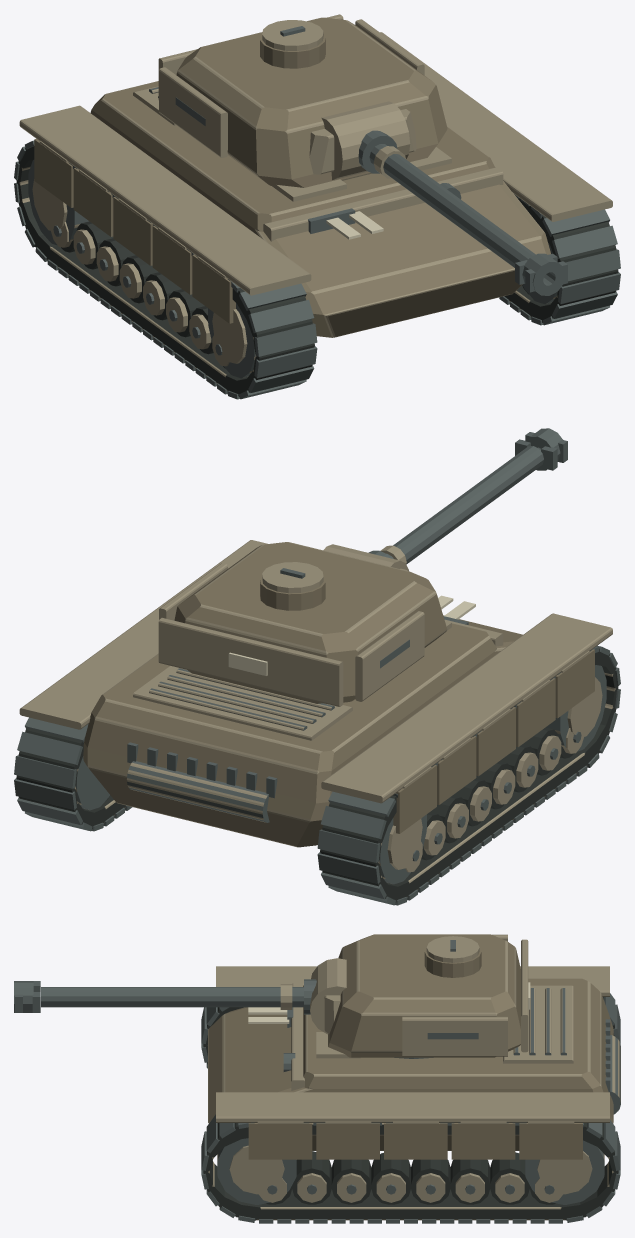
Rendered from palisade.glb.
The picture shows the model from 3 angles, top to bottom: view 1: azimuth 30°, elevation 25°; view 2: azimuth 150°, elevation 25°; view 3: azimuth 270°, elevation 25°; orthographic projection. The views are drawn at different scales.
Parts seen in each view (by area): view 1: Hull, Turret, Barrel; view 2: Hull, Turret, Barrel; view 3: Hull, Turret, Barrel.
Boxes of the visible parts, bbox=[...] form: Hull: bbox=[14, 32, 620, 399]; Turret: bbox=[158, 14, 447, 187]; Barrel: bbox=[321, 101, 567, 295]; Hull: bbox=[14, 540, 620, 905]; Turret: bbox=[158, 542, 447, 706]; Barrel: bbox=[323, 428, 567, 571]; Hull: bbox=[201, 966, 620, 1223]; Turret: bbox=[324, 934, 530, 1058]; Barrel: bbox=[14, 958, 346, 1034].
Bounding box in the file's own units: 3.68 × 2.29 × 6.19.
